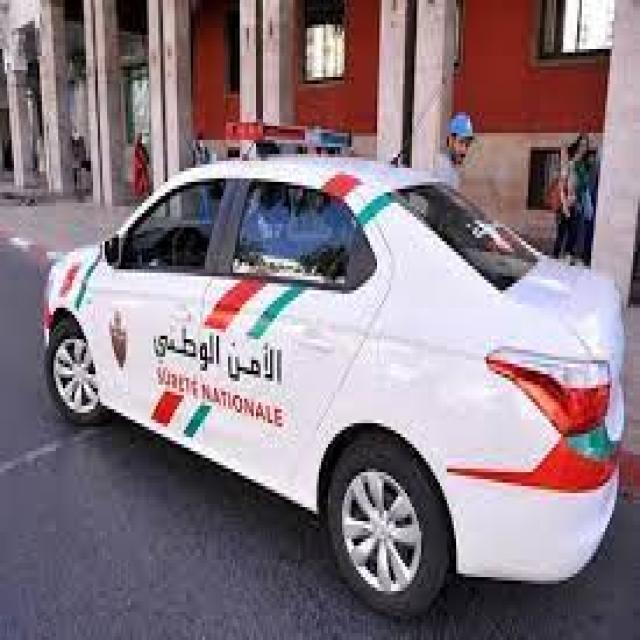Police car: (38, 118, 630, 616)
